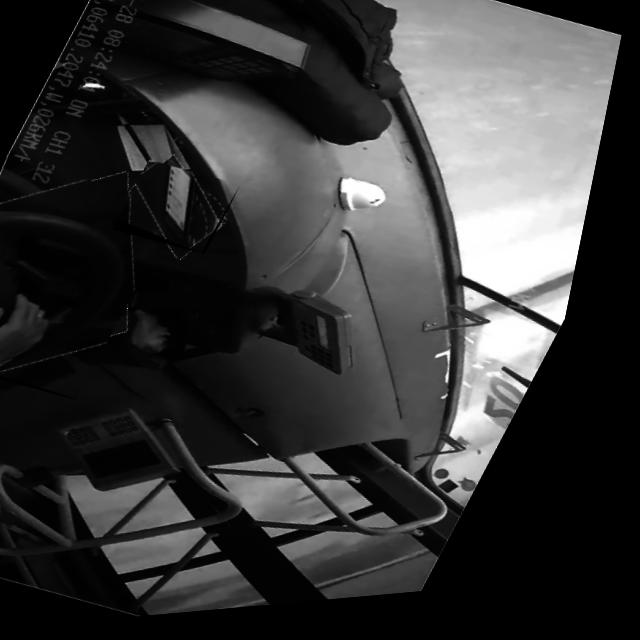phone: (116, 156, 253, 265)
wheel: (0, 144, 197, 413)
